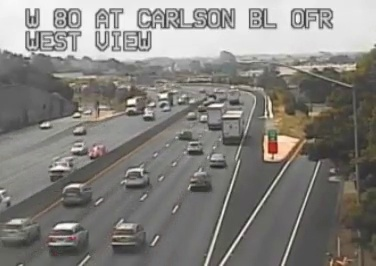car: (47, 222, 88, 251), (1, 218, 40, 244), (111, 223, 144, 246), (62, 183, 90, 204), (125, 168, 148, 187), (190, 172, 208, 189), (210, 153, 225, 167), (186, 142, 202, 153)
truck: (221, 110, 243, 144), (207, 102, 225, 129)
